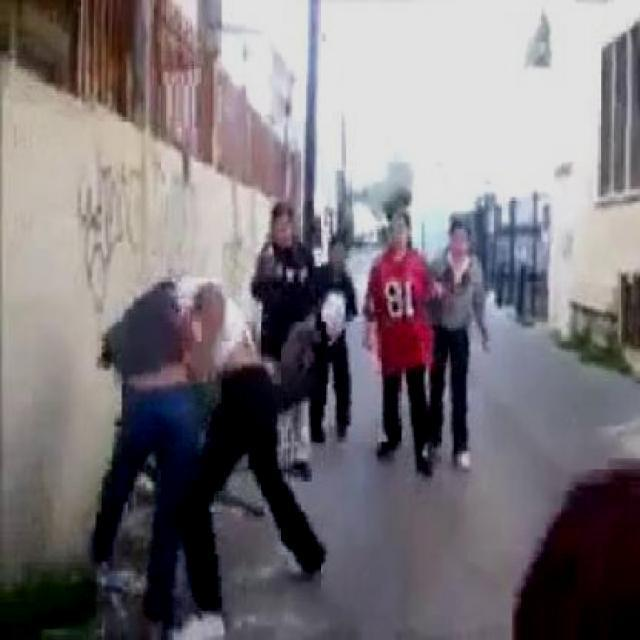fight: (95, 272, 323, 637)
